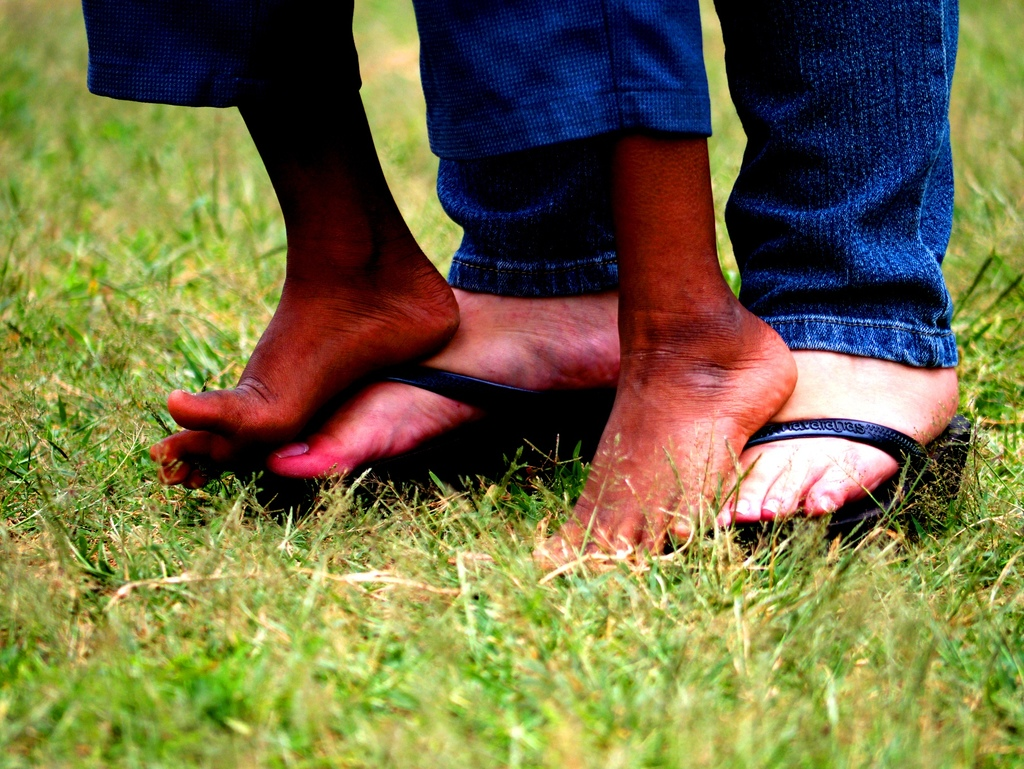Person: (81, 0, 797, 572), (263, 1, 958, 532)
